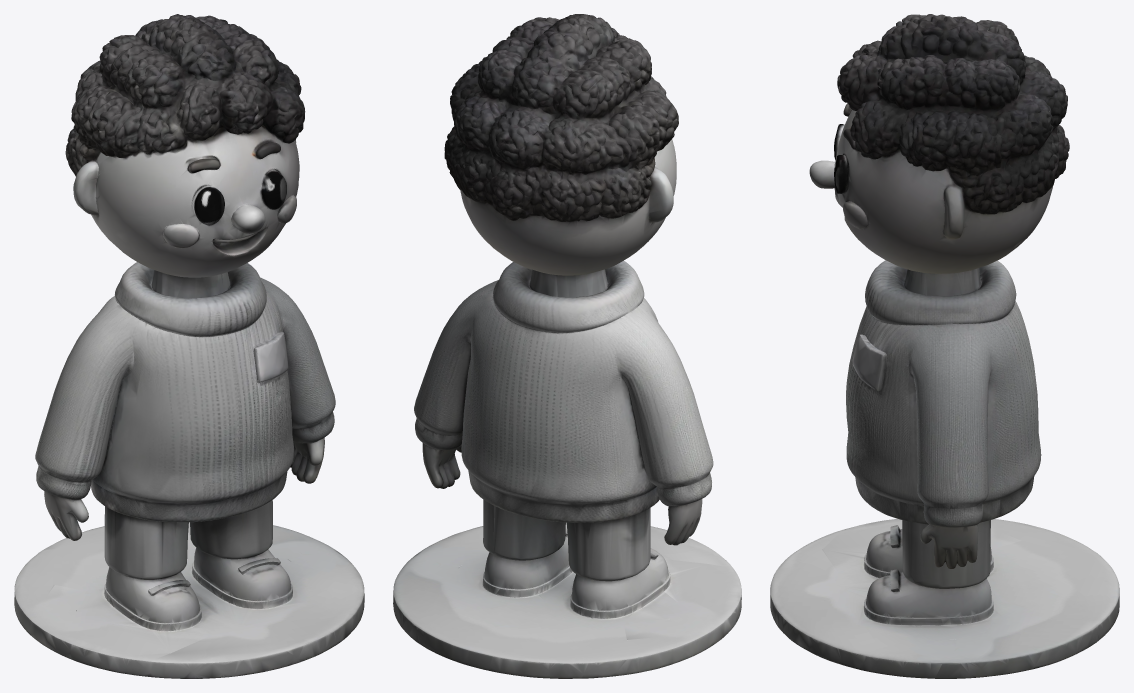
Rendered from mascot.glb.
3 renders of one model, left to right at view 1: azimuth 30°, elevation 25°; view 2: azimuth 150°, elevation 25°; view 3: azimuth 270°, elevation 25°, orthographic.
Visible parts, largest first — view 1: model; view 2: model; view 3: model.
Part boxes in pixels (x1=…): model: x1=14, y1=14, x2=364, y2=678; model: x1=393, y1=14, x2=741, y2=678; model: x1=770, y1=14, x2=1119, y2=678.
Bounding box in the file's own units: 0.9756 × 1.82 × 0.9754.
1 material, 1 textured.
